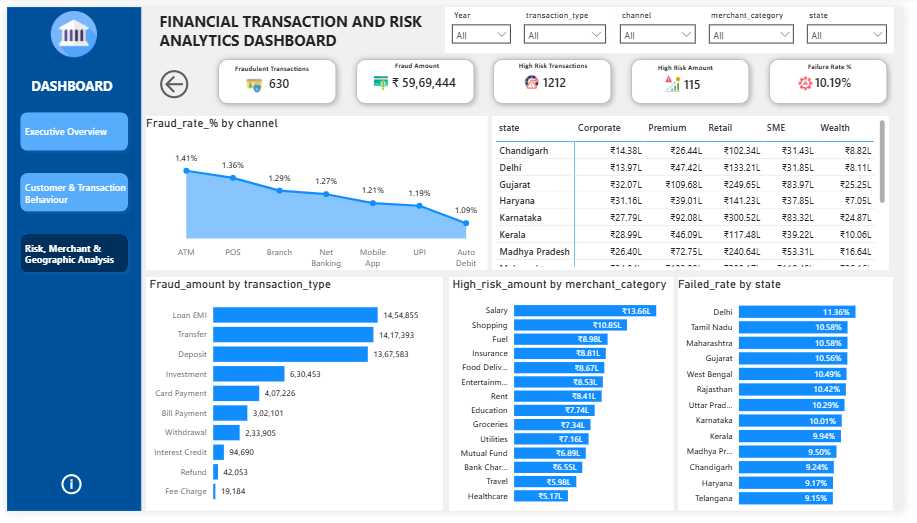

The page's visual inventory and layout, read from the dashboard file:
{"tool":"powerbi","page":{"name":"Risk, Merchant & Geographic Analysis","canvas":[1280,720],"ordinal":2},"visuals":[{"type":"shape","box":[0,0,191.7,720],"z":0},{"type":"slicer","fields":{"Values":["Date.Date.Variation.Date Hierarchy.Year"]},"box":[625,0,104.2,66.2],"z":0,"group":"g7"},{"type":"group","id":"g1","title":"Group 2","box":[489.7,66,186.4,81.5],"z":0,"group":"g6"},{"type":"shape","box":[489.7,66,186.4,81.5],"z":0,"group":"g8"},{"type":"shape","box":[686.3,66,186.4,81.5],"z":0,"group":"g9"},{"type":"shape","box":[883,66,186.4,81.5],"z":0,"group":"g10"},{"type":"slicer","fields":{"Values":["finance_transactions.transaction_type"]},"box":[728.5,0,136.7,66],"z":1000,"group":"g7"},{"type":"image","box":[48.5,5.8,94.2,65.8],"z":1000},{"type":"group","id":"g2","title":"Group 3","box":[883,66,186.4,81.5],"z":1000,"group":"g6"},{"type":"shape","box":[1079.7,66,186.4,81.5],"z":1000,"group":"g4"},{"type":"cardVisual","fields":{"Data":["Measure.High_risk_transaction"]},"box":[766.7,92.5,44.6,26.9],"z":1000,"group":"g9"},{"type":"cardVisual","fields":{"Data":["Measure.High_risk_amount"]},"box":[968,95.4,37.8,26.7],"z":1000,"group":"g10"},{"type":"slicer","fields":{"Values":["finance_transactions.channel"]},"box":[864.5,0,128,66],"z":2000,"group":"g7"},{"type":"shape","box":[293,66,186.4,81.5],"z":2000,"group":"g5"},{"type":"group","id":"g3","title":"Group 4","box":[686.3,66,186.4,81.5],"z":2000,"group":"g6"},{"type":"cardVisual","fields":{"Data":["Measure.Fraud_amount"]},"box":[549.6,89.3,104.6,32.7],"z":2000,"group":"g8"},{"type":"textbox","box":[0,94.5,185.5,35.5],"z":2000},{"type":"image","box":[936.3,97.7,31.1,23.9],"z":2000,"group":"g10"},{"type":"image","box":[736,98.1,27.9,20],"z":2000,"group":"g9"},{"type":"slicer","fields":{"Values":["finance_transactions.merchant_category"]},"box":[991.8,0,141.3,66],"z":3000,"group":"g7"},{"type":"group","id":"g4","title":"Group 1","box":[1079.7,66,186.4,81.5],"z":3000,"group":"g6"},{"type":"textbox","box":[930.3,76.3,94.1,18.8],"z":3000,"group":"g10"},{"type":"cardVisual","fields":{"Data":["Measure.Failed_rate"]},"box":[1153.4,93.4,55.8,26.8],"z":3000,"group":"g4"},{"type":"image","box":[518,97,31.5,23.1],"z":3000,"group":"g8"},{"type":"lineChart","fields":{"Category":["finance_transactions.channel"],"Y":["Measure.Fraud_rate_%"]},"box":[198.7,156,488,220],"z":3000},{"type":"slicer","fields":{"Values":["customers.state"]},"box":[1132,0,134,66],"z":4000,"group":"g7"},{"type":"group","id":"g5","title":"Group 8","box":[293,66,186.4,81.5],"z":4000,"group":"g6"},{"type":"textbox","box":[554.3,73.4,71.4,19.5],"z":4000,"group":"g8"},{"type":"textbox","box":[728.8,73.6,108.6,19.5],"z":4000,"group":"g9"},{"type":"barChart","fields":{"Category":["finance_transactions.transaction_type"],"Y":["Measure.Fraud_amount"]},"box":[199,385,424,334],"z":4000},{"type":"textbox","box":[213.3,0,400,68.3],"z":5000},{"type":"barChart","fields":{"Y":["Measure.High_risk_amount"],"Category":["finance_transactions.merchant_category"]},"box":[631,386,321,334],"z":6000},{"type":"textbox","box":[1143.5,74.2,70.5,19],"z":7000,"group":"g4"},{"type":"pivotTable","fields":{"Rows":["customers.state"],"Columns":["customers.customer_segment"],"Values":["Measure.Total Transaction Amount(L)"]},"box":[692.9,155.7,567.1,220],"z":7000},{"type":"group","id":"g6","title":"Group 9","box":[293,66,973.1,81.5],"z":8000},{"type":"group","id":"g7","title":"Group 10","box":[625,0,641,66.2],"z":9000},{"type":"cardVisual","fields":{"Data":["Measure.Fraudulent Transactions"]},"box":[374.2,93.5,52.5,28.8],"z":9000,"group":"g5"},{"type":"image","box":[1126.7,98.9,26.7,20.6],"z":10000},{"type":"actionButton","box":[213,84,58,52],"z":11000},{"type":"image","box":[335.1,100.1,35.7,25],"z":12000,"group":"g5"},{"type":"pageNavigator","box":[12.2,144.4,166.7,241.1],"z":12000},{"type":"barChart","fields":{"Y":["Measure.Failed_rate"],"Category":["customers.state"]},"box":[959,386,307,334],"z":13000},{"type":"actionButton","box":[72.9,661.4,38.6,40],"z":14000},{"type":"textbox","box":[326.4,76.8,125.9,19.4],"z":15000,"group":"g5"},{"type":"group","id":"g8","title":"Group 7","box":[489.7,66,186.4,81.5],"z":24002,"group":"g1"},{"type":"group","id":"g9","title":"Group 6","box":[686.3,66,186.4,81.5],"z":24002,"group":"g3"},{"type":"group","id":"g10","title":"Group 5","box":[883,66,186.4,81.5],"z":24002,"group":"g2"}]}

Visuals, with their boxes in screenshot pixels (x1, y1, x2, y2), scaled from the page's 1280x720 canvas onto the 917x523 screenshot:
shape: Rect(0, 0, 137, 522)
slicer - Date.Date.Variation.Date Hierarchy.Year: Rect(448, 0, 522, 48)
"Group 2" group: Rect(351, 48, 484, 107)
shape: Rect(351, 48, 484, 107)
shape: Rect(492, 48, 625, 107)
shape: Rect(633, 48, 766, 107)
slicer - finance_transactions.transaction_type: Rect(522, 0, 620, 48)
image: Rect(35, 4, 102, 52)
"Group 3" group: Rect(633, 48, 766, 107)
shape: Rect(774, 48, 907, 107)
cardVisual - Measure.High_risk_transaction: Rect(549, 67, 581, 87)
cardVisual - Measure.High_risk_amount: Rect(693, 69, 721, 89)
slicer - finance_transactions.channel: Rect(619, 0, 711, 48)
shape: Rect(210, 48, 343, 107)
"Group 4" group: Rect(492, 48, 625, 107)
cardVisual - Measure.Fraud_amount: Rect(394, 65, 469, 89)
textbox: Rect(0, 69, 133, 94)
image: Rect(671, 71, 693, 88)
image: Rect(527, 71, 547, 86)
slicer - finance_transactions.merchant_category: Rect(711, 0, 812, 48)
"Group 1" group: Rect(774, 48, 907, 107)
textbox: Rect(666, 55, 734, 69)
cardVisual - Measure.Failed_rate: Rect(826, 68, 866, 87)
image: Rect(371, 70, 394, 87)
lineChart - finance_transactions.channel x Measure.Fraud_rate_%: Rect(142, 113, 492, 273)
slicer - customers.state: Rect(811, 0, 907, 48)
"Group 8" group: Rect(210, 48, 343, 107)
textbox: Rect(397, 53, 448, 67)
textbox: Rect(522, 53, 600, 68)
barChart - finance_transactions.transaction_type x Measure.Fraud_amount: Rect(143, 280, 446, 522)
textbox: Rect(153, 0, 439, 50)
barChart - Measure.High_risk_amount x finance_transactions.merchant_category: Rect(452, 280, 682, 522)
textbox: Rect(819, 54, 870, 68)
pivotTable - customers.state x customers.customer_segment: Rect(496, 113, 903, 273)
"Group 9" group: Rect(210, 48, 907, 107)
"Group 10" group: Rect(448, 0, 907, 48)
cardVisual - Measure.Fraudulent Transactions: Rect(268, 68, 306, 89)
image: Rect(807, 72, 826, 87)
actionButton: Rect(153, 61, 194, 99)
image: Rect(240, 73, 266, 91)
pageNavigator: Rect(9, 105, 128, 280)
barChart - Measure.Failed_rate x customers.state: Rect(687, 280, 907, 522)
actionButton: Rect(52, 480, 80, 509)
textbox: Rect(234, 56, 324, 70)
"Group 7" group: Rect(351, 48, 484, 107)
"Group 6" group: Rect(492, 48, 625, 107)
"Group 5" group: Rect(633, 48, 766, 107)
